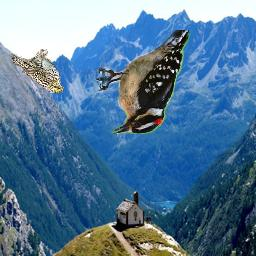Sparrow: (12, 49, 65, 93)
Woodpecker: (97, 30, 190, 134)
